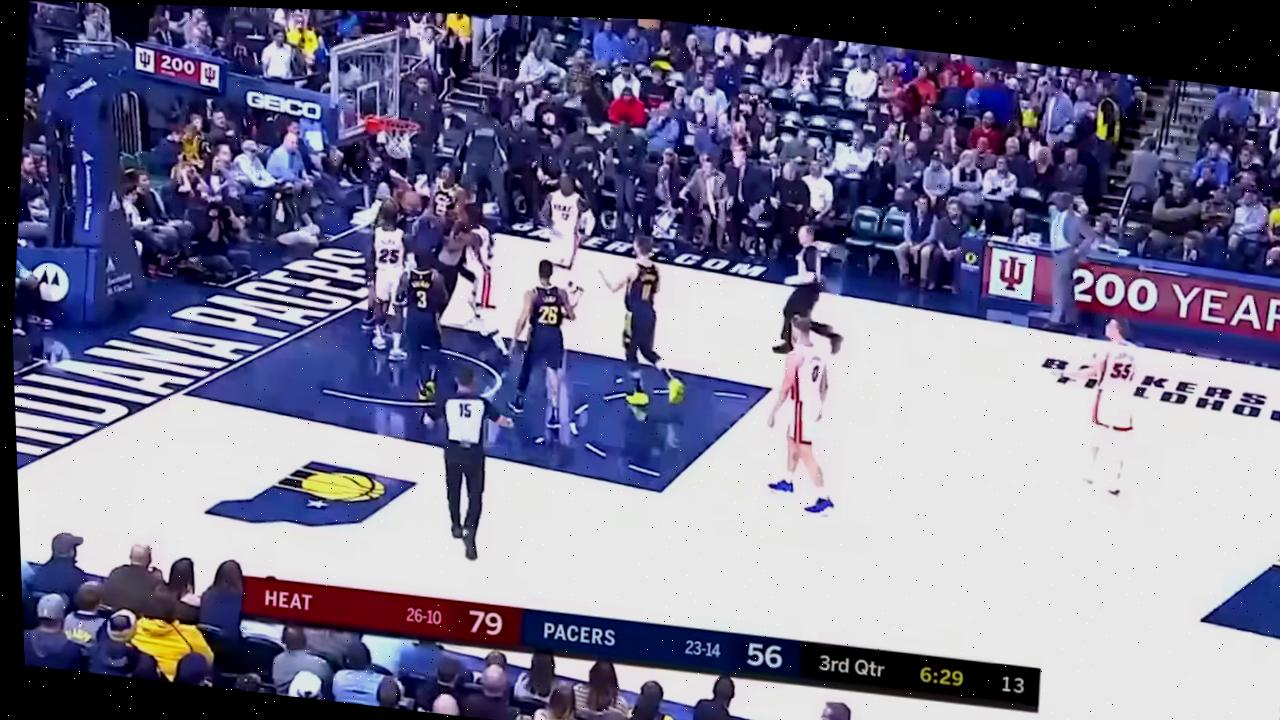foul: (348, 174, 520, 369)
